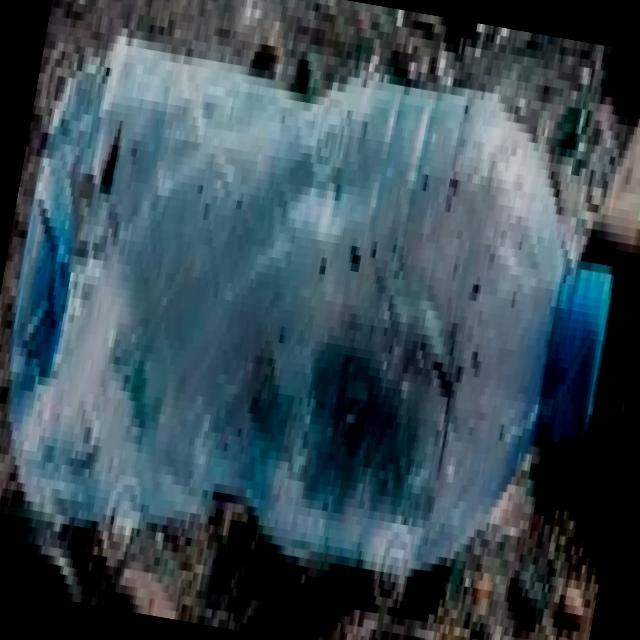Recycle: (0, 13, 640, 617)
